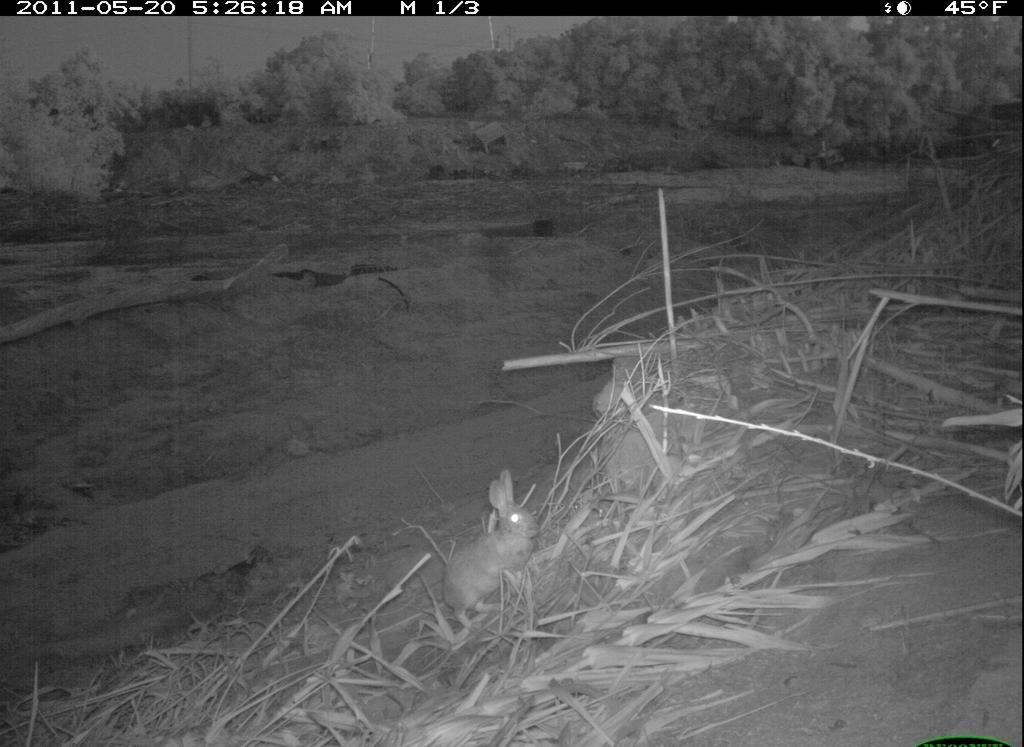rabbit: (425, 470, 560, 637)
